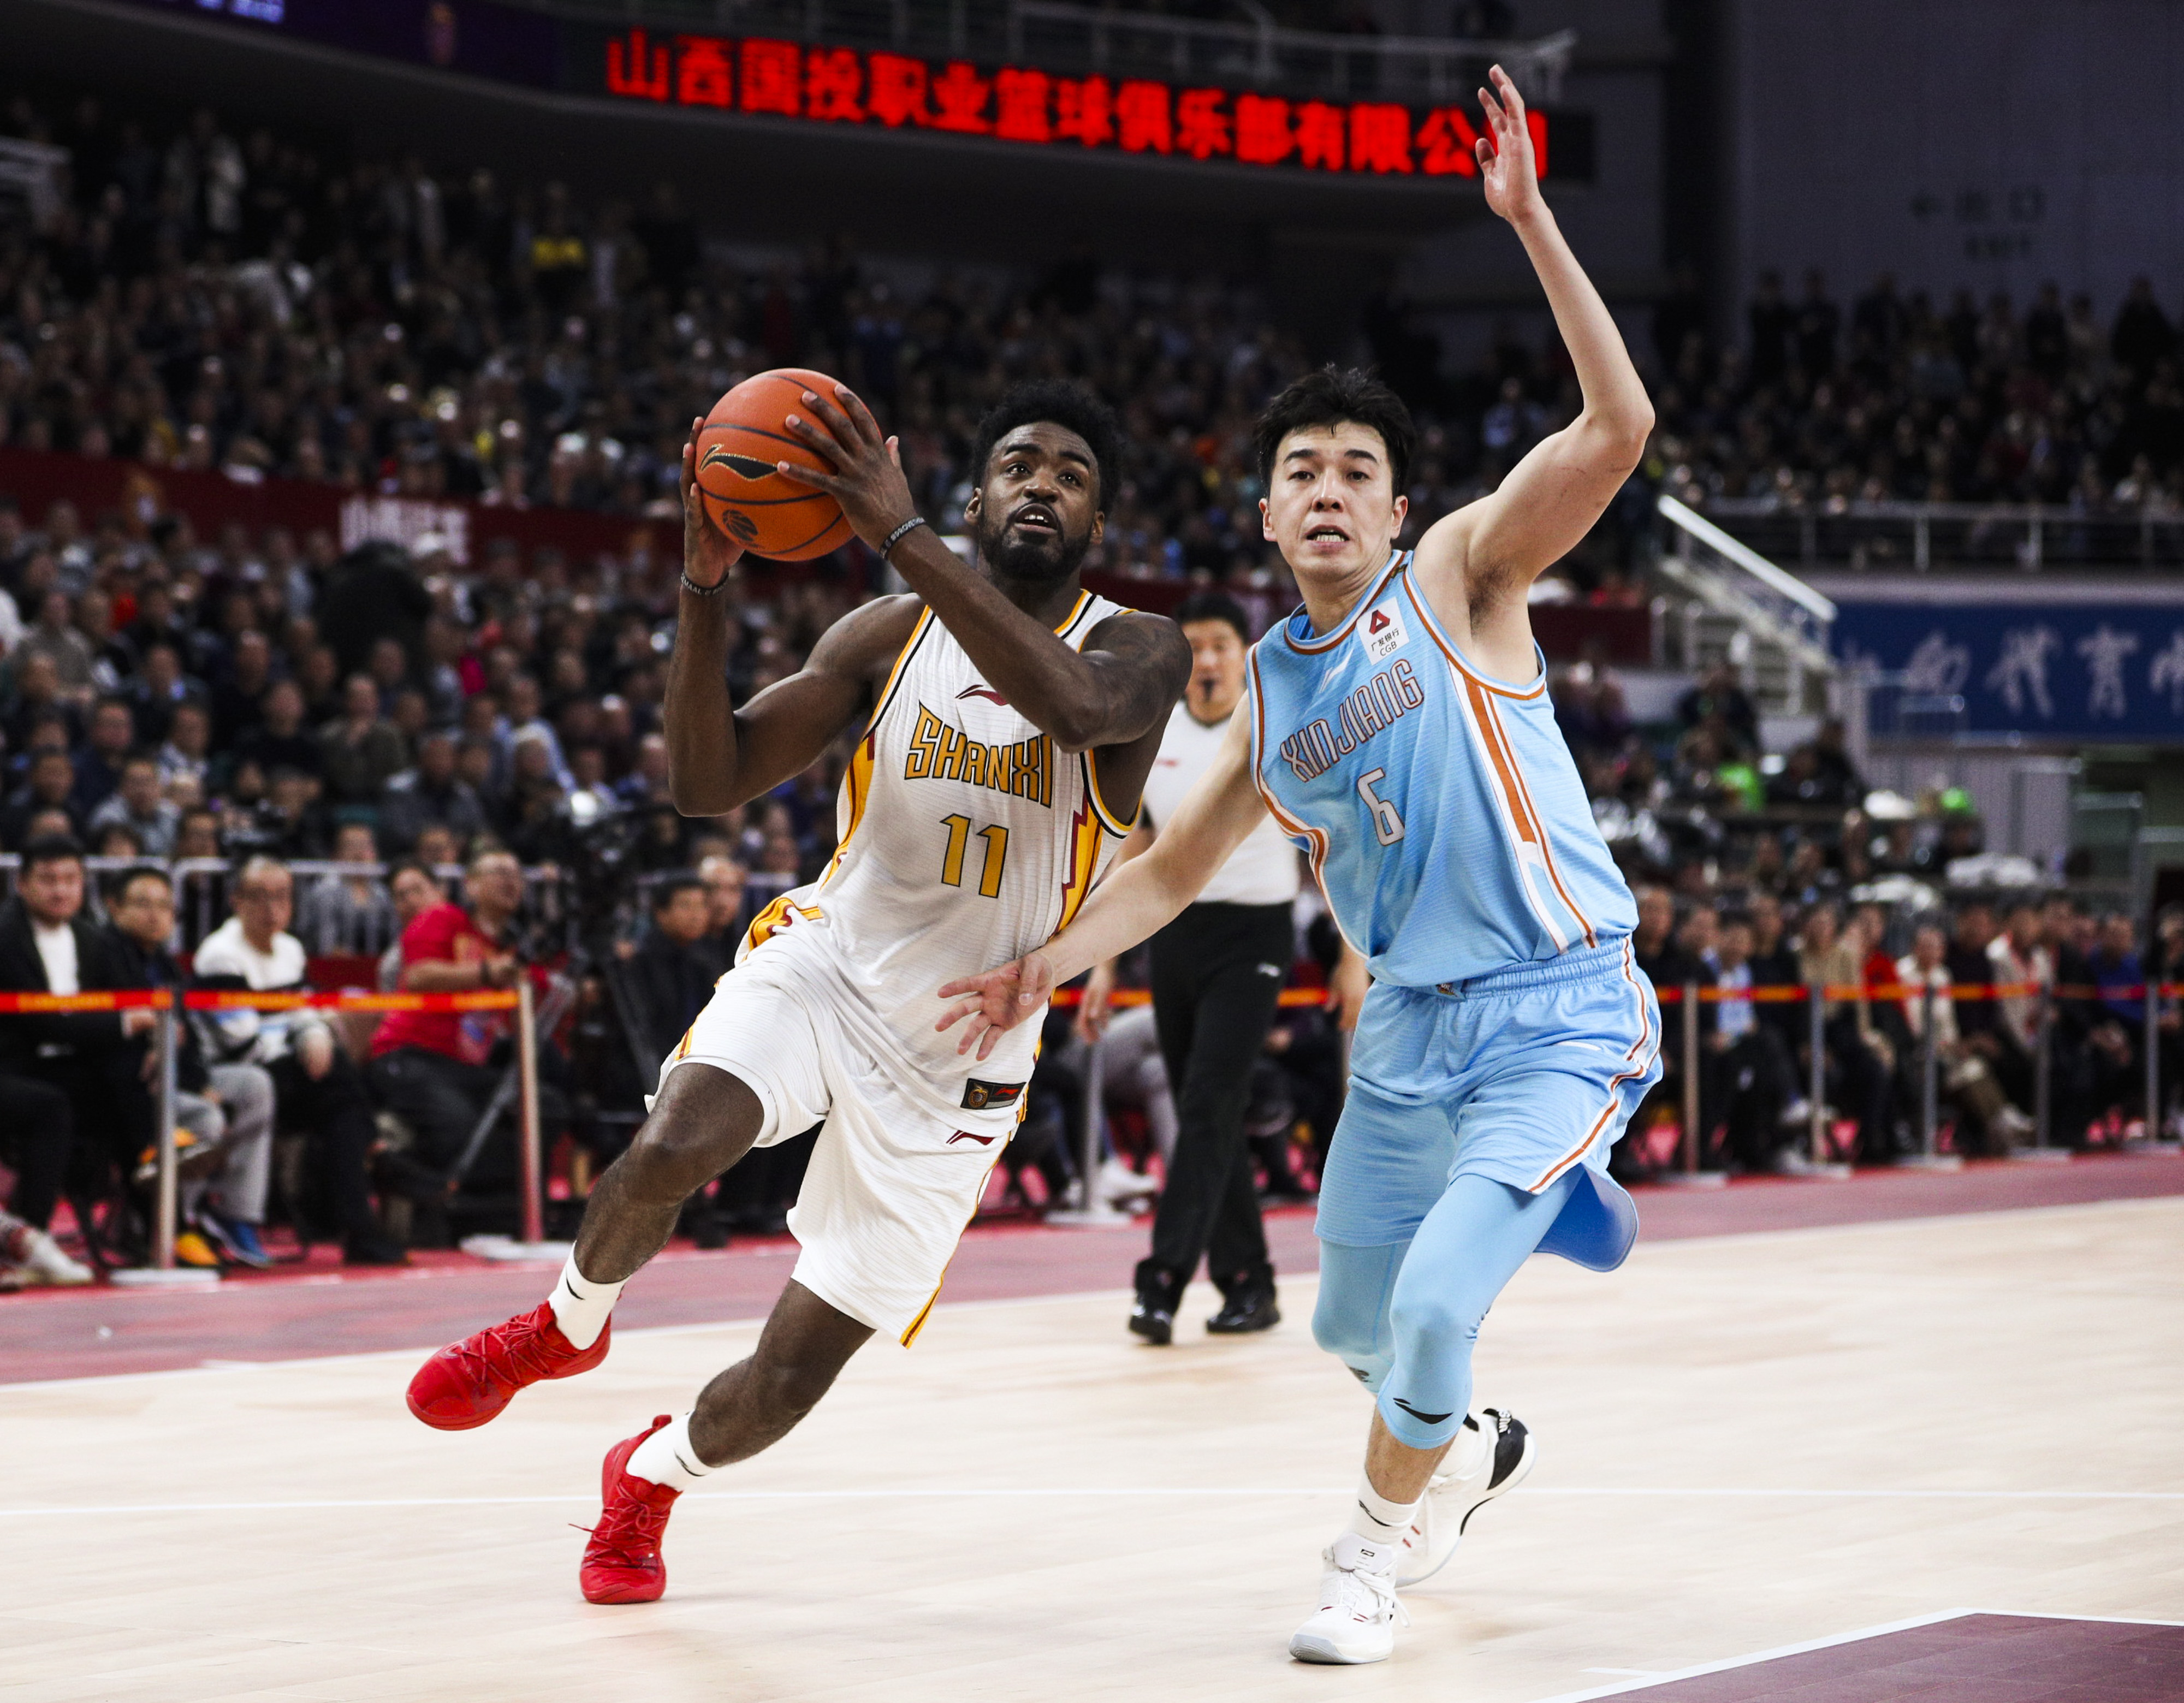ball: (693, 370, 885, 564)
